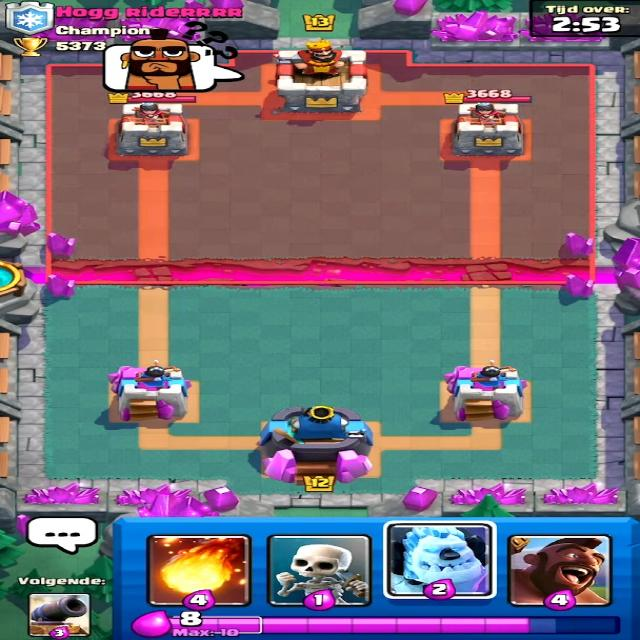Fireball_Card: (148, 534, 250, 605)
Hog_Rider_Card: (509, 536, 605, 607)
Ice_Golem_Card: (388, 524, 495, 597)
Skeleton_Card: (266, 535, 381, 610)
